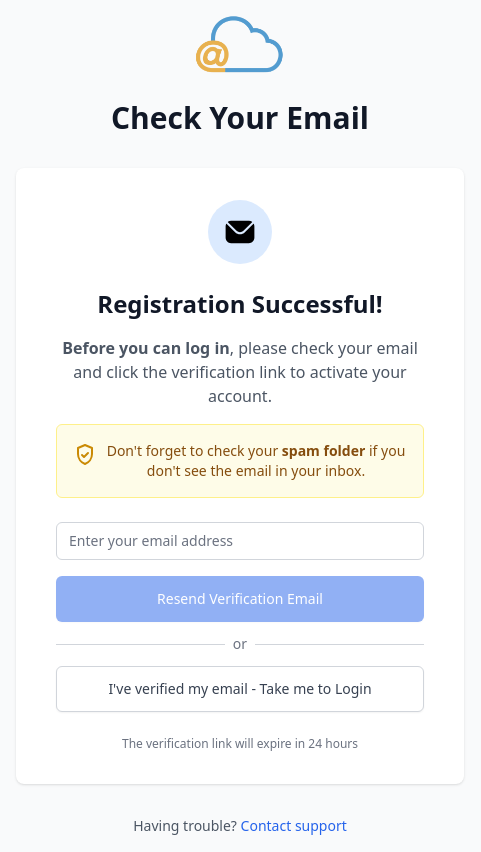
Test: CheckEmail page › enables resend button after entering email
Expected: the button "Resend Verification Email" is disabled, [56,576,424,622]
Type "new@example.com" into the field with placeholder "Enter your email address" at (240, 541), box [56,522,424,560]
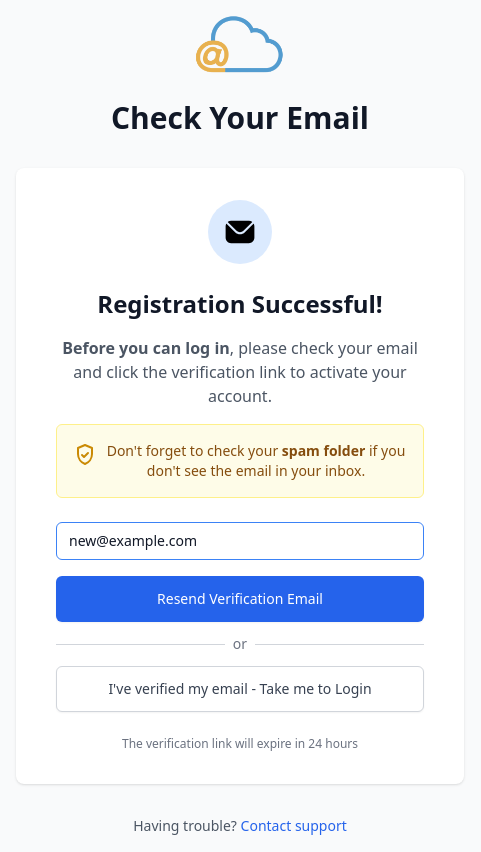
Expected: the button "Resend Verification Email" is enabled, [56,576,424,622]
